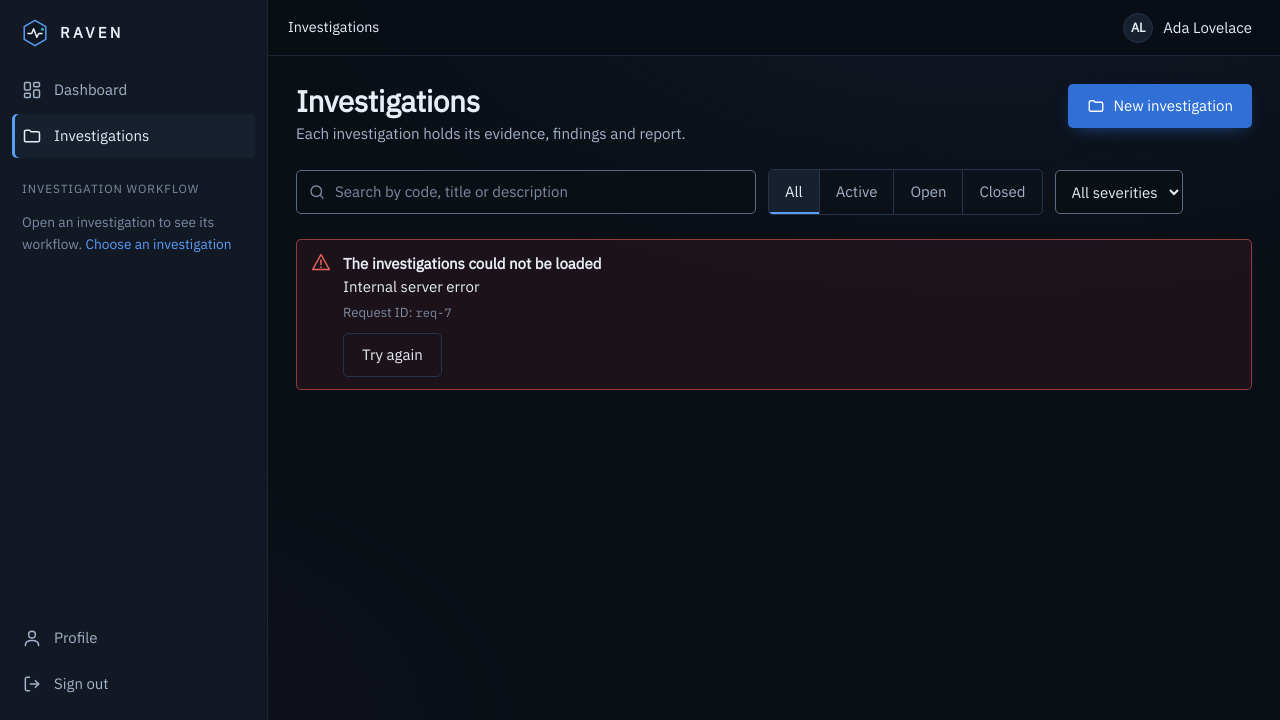
Investigations list › shows the error and can try again
The width and height of the screenshot is (1280, 720).
Expected: the message shows "The investigations could not be loaded", [343,254,601,273]
Expected: the message shows "req-7", [416,305,452,320]
Click the button "Try again".
click(392, 355)  # box [343,333,442,377]
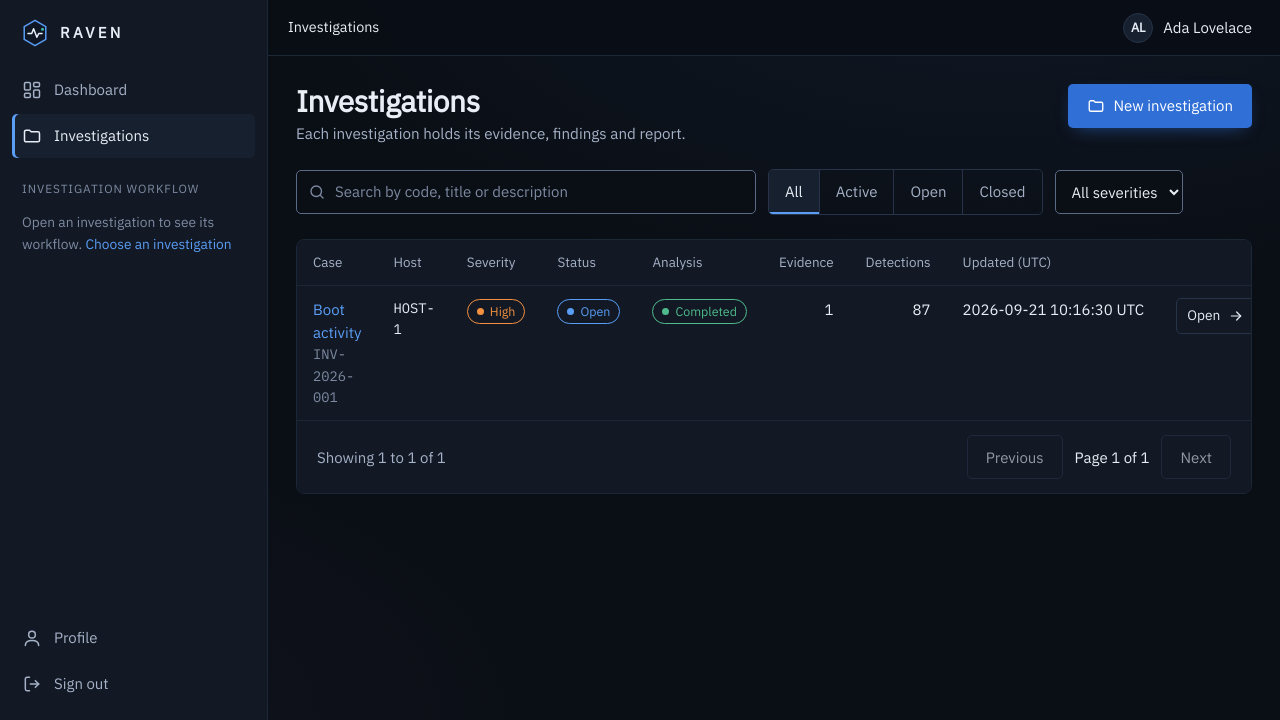
Result: the table is shown at [297,240,1252,420]
